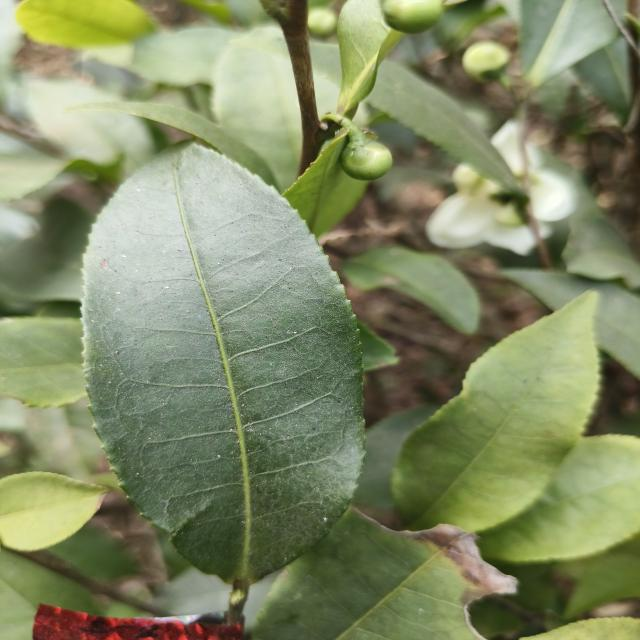Leaf: (82, 145, 364, 584), (391, 293, 599, 531), (253, 508, 516, 640), (368, 61, 522, 196), (480, 435, 640, 563), (68, 102, 275, 186), (502, 269, 640, 378), (212, 27, 302, 192), (23, 78, 153, 173), (343, 247, 479, 334), (0, 199, 96, 303), (16, 0, 155, 68), (0, 549, 101, 640), (283, 131, 368, 236), (518, 0, 618, 87), (0, 472, 108, 551), (0, 317, 86, 407), (131, 27, 236, 87), (44, 522, 138, 581), (314, 72, 339, 115), (311, 45, 337, 79)
